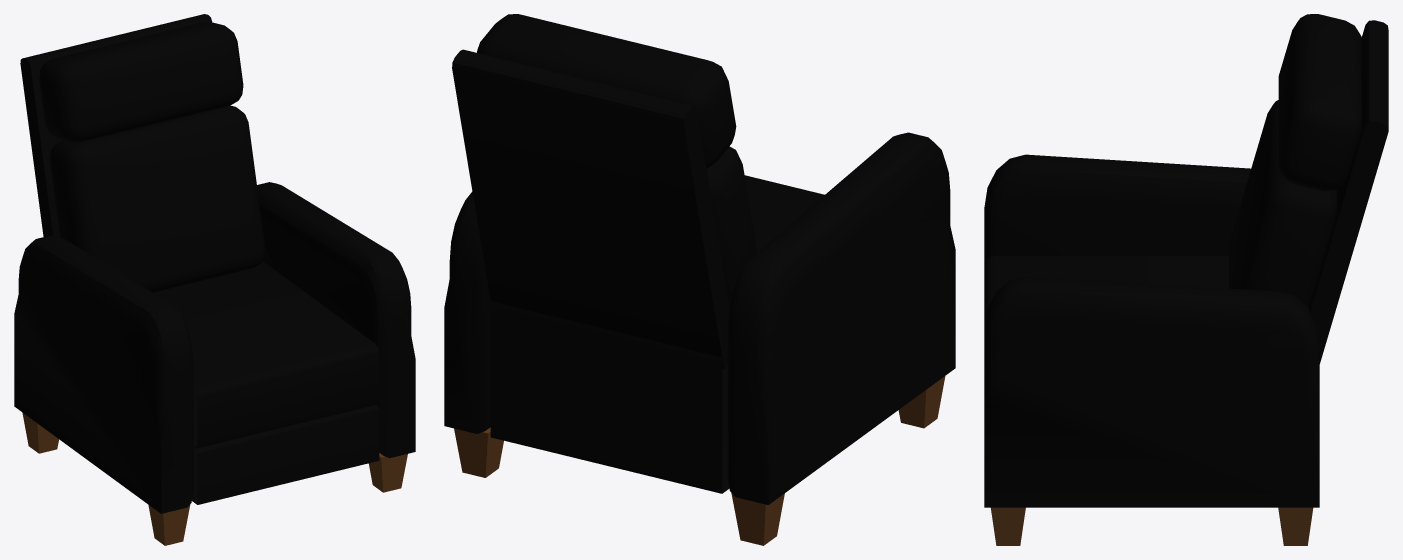
3 renders of one model, left to right at view 1: azimuth 30°, elevation 25°; view 2: azimuth 150°, elevation 25°; view 3: azimuth 270°, elevation 25°, orthographic. The views are drawn at different scales.
Parts seen in each view (by area): view 1: MC-55; view 2: MC-55; view 3: MC-55.
Boxes of the visible parts, x1,y1,x2,y2 form: MC-55: [14, 14, 415, 545]; MC-55: [444, 14, 955, 545]; MC-55: [984, 14, 1388, 545].
Bounding box in the file's own units: 70 × 97.37 × 84.38.
